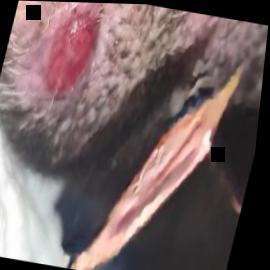skin_lesions: (32, 1, 109, 107)
